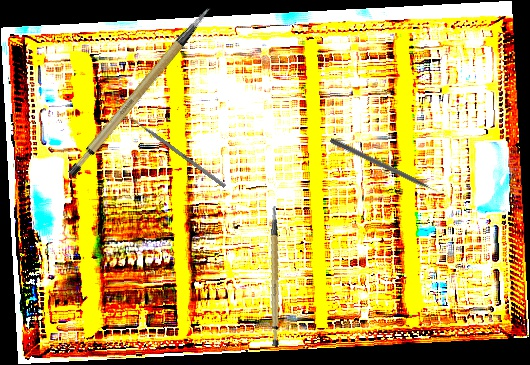Pusher: (123, 111, 227, 189), (328, 137, 448, 200)
Scalpel Handle: (47, 5, 236, 180), (253, 205, 300, 348)
